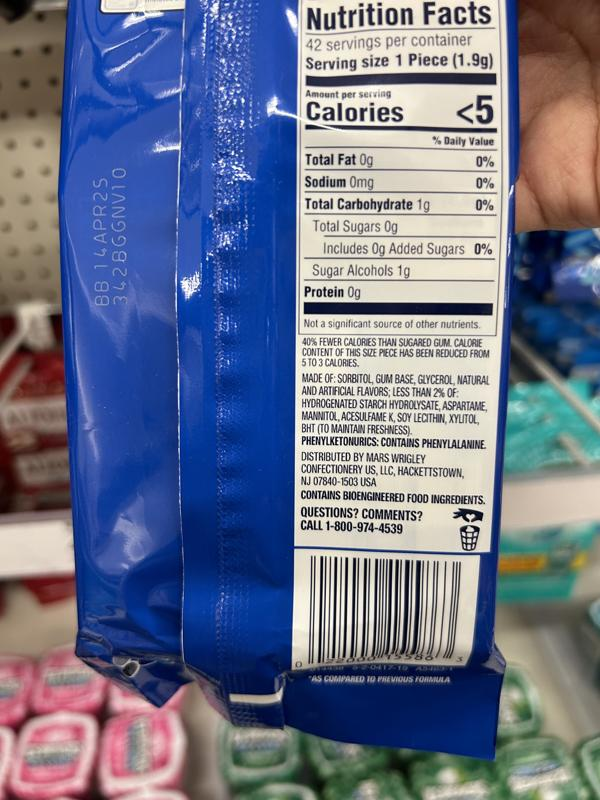ingredients: (299, 371, 493, 437)
